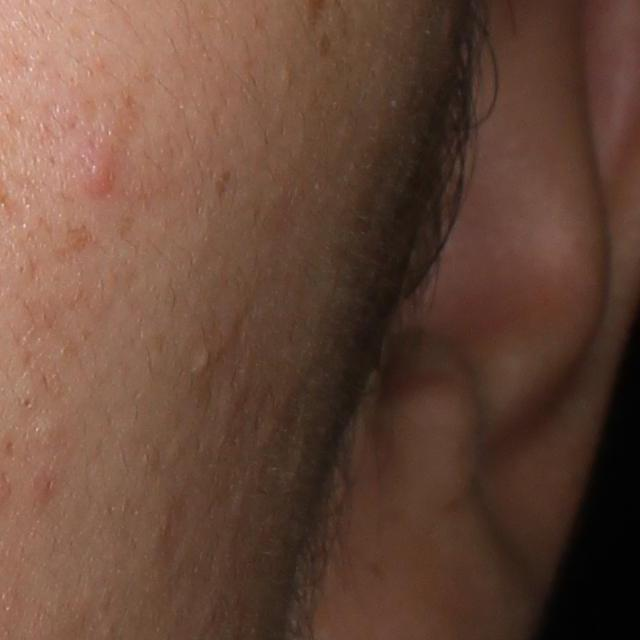comedo: (195, 341, 216, 380), (280, 65, 296, 86)
papule: (81, 164, 120, 197)
